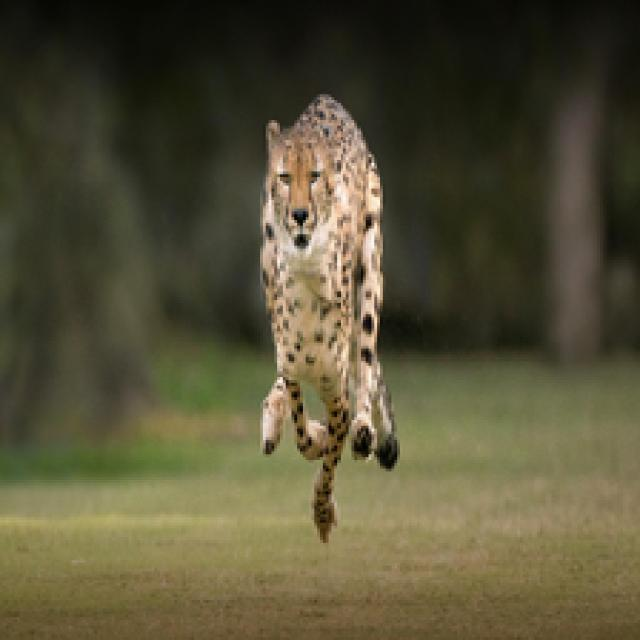cheetah: (207, 99, 431, 539)
